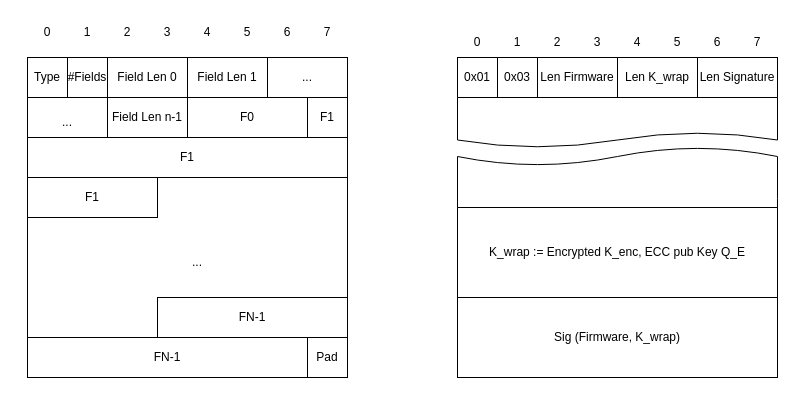
This 804x395 diagram has some shape labels left out. Each missing label, with the box of its shape:
Encryped Firmware packet: (456, 96, 778, 148)
Encrypted Firmware packet: (456, 146, 778, 208)
